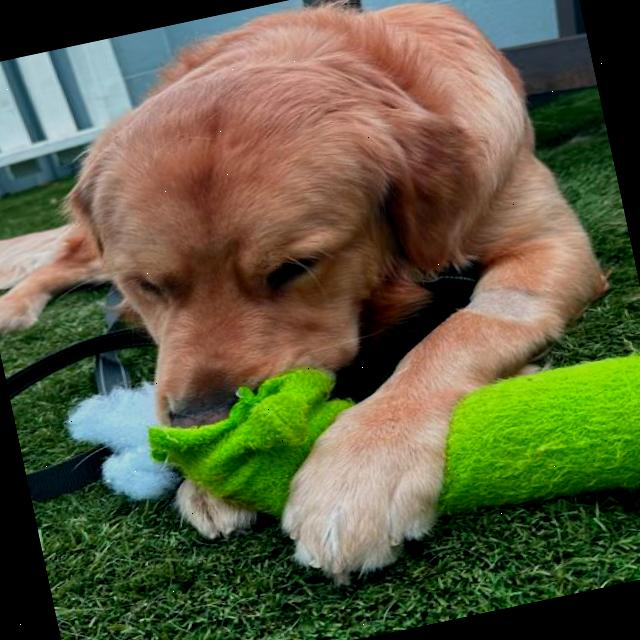golden_retriever_dog: (35, 0, 545, 462)
